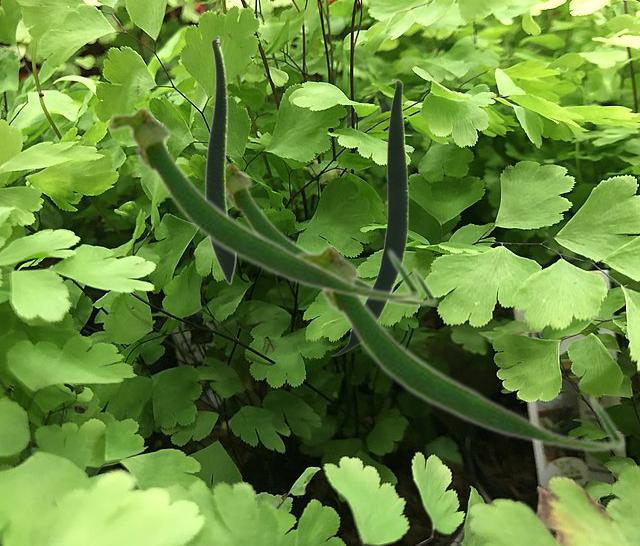french_bean: (297, 241, 626, 453), (104, 103, 422, 303), (203, 160, 437, 307), (331, 79, 407, 355), (204, 35, 236, 284)
